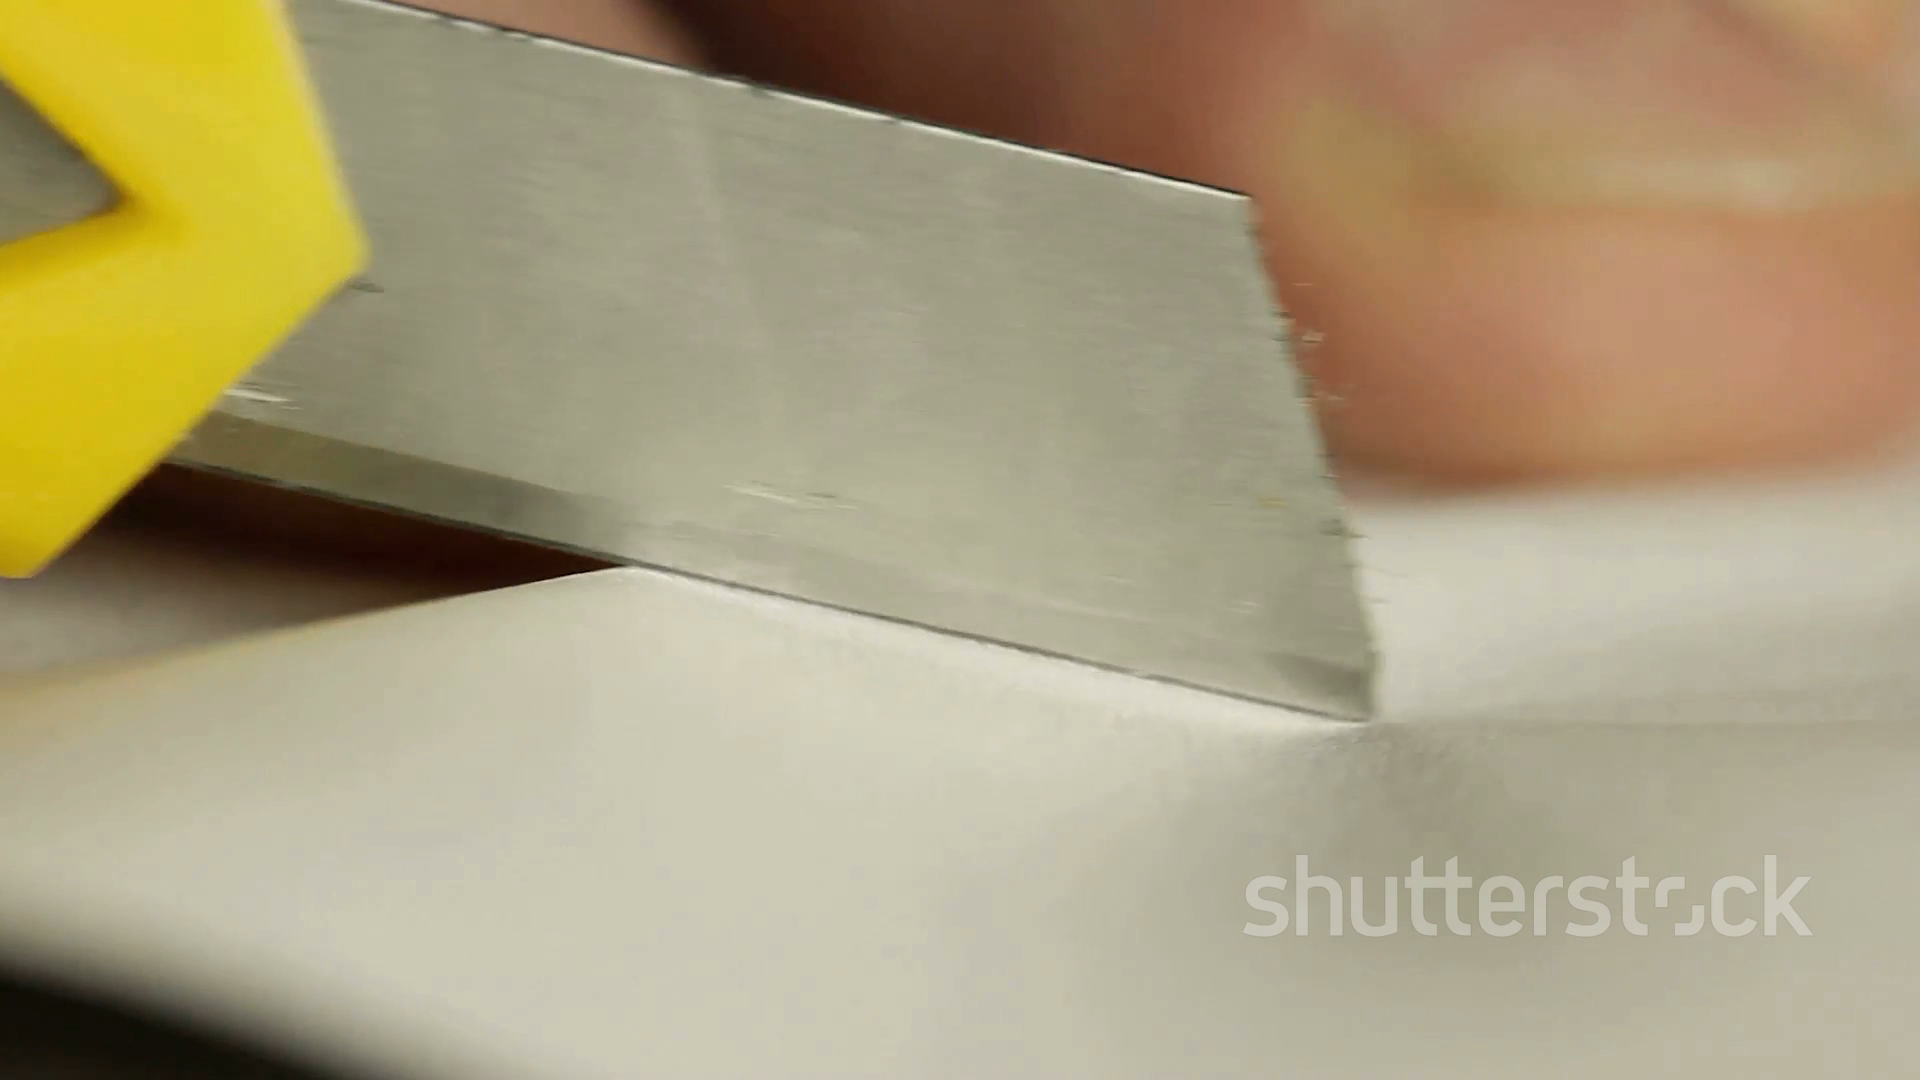cortante: (158, 0, 1373, 723)
